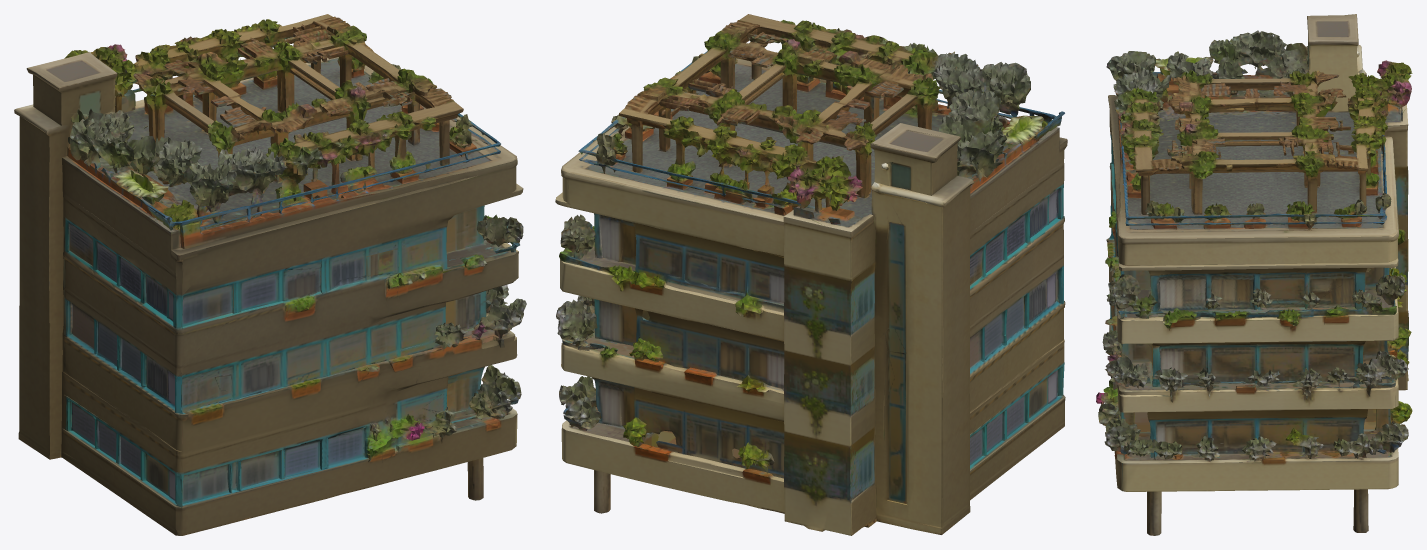
Rendered from bld_bauhaus_c.glb.
3 renders of one model, left to right at view 1: azimuth 30°, elevation 25°; view 2: azimuth 150°, elevation 25°; view 3: azimuth 270°, elevation 25°, orthographic. The views are drawn at different scales.
Visible parts, largest first — view 1: geometry_0; view 2: geometry_0; view 3: geometry_0.
Boxes of the visible parts, x1=… form: geometry_0: x1=14, y1=14, x2=526, y2=535; geometry_0: x1=555, y1=14, x2=1067, y2=535; geometry_0: x1=1096, y1=14, x2=1412, y2=535.
Bounding box in the file's own units: 14.17 × 15 × 11.46.
Materials: 1 (1 with a texture image).
